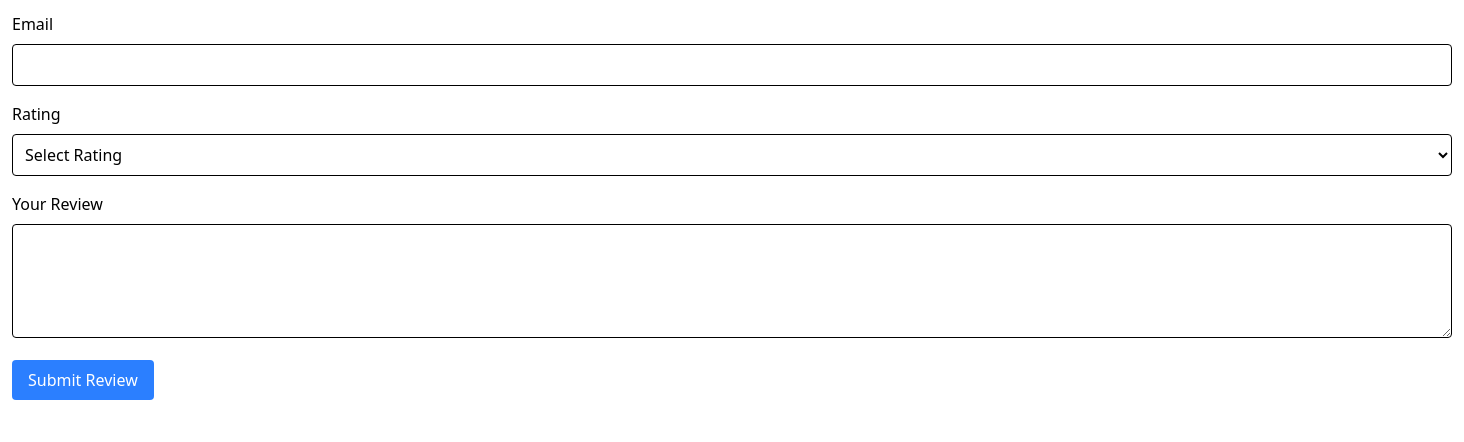
Test case: Testing Form Component › should show error if review is too short
The image size is (1464, 442).
In the field labelled "Email": [732, 65] box [12, 44, 1452, 86], type "test@test.com"
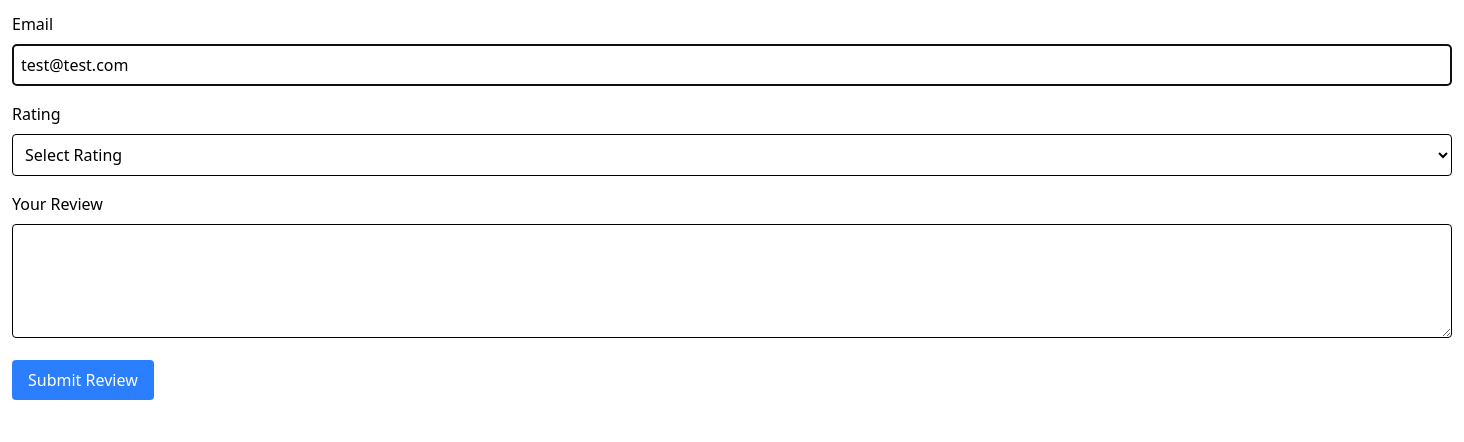
In the text box labelled "Your Review": [732, 281] box [12, 224, 1452, 338], type "good"
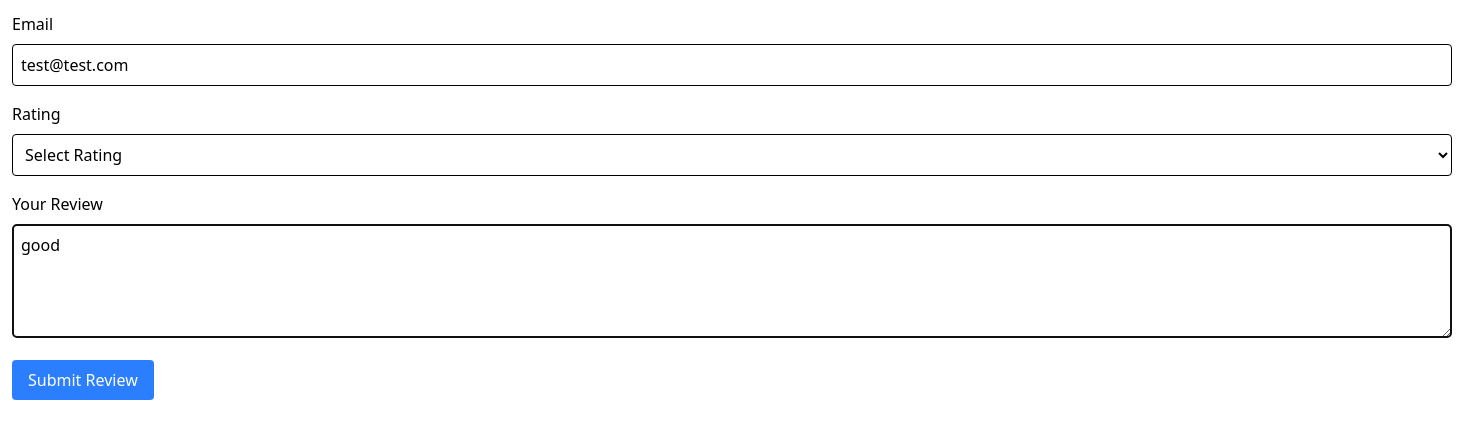
Select "4 stars" in the dropdown labelled "Rating": [732, 155] box [12, 134, 1452, 176]
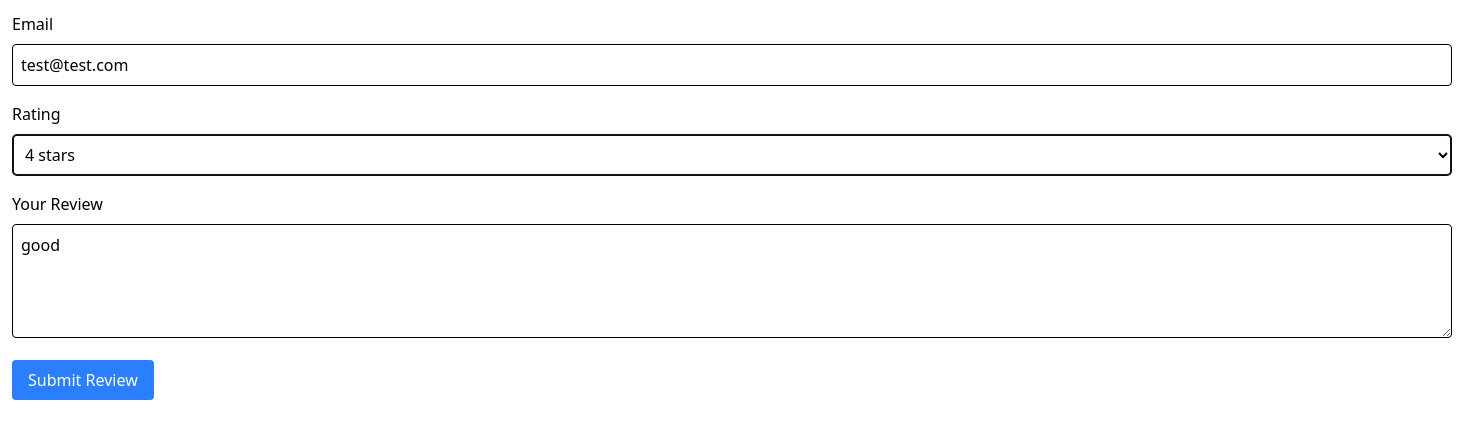
Click the button "Submit Review": [83, 380] box [12, 360, 154, 400]
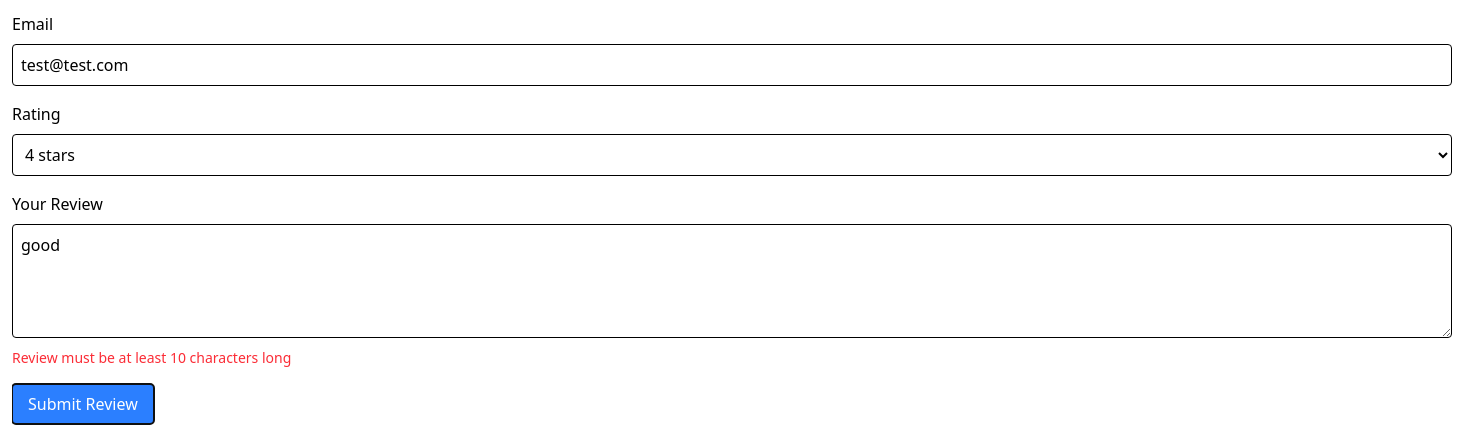
Result: the text "Review must be at least 10 characters long" is shown at [12, 348, 291, 367]
